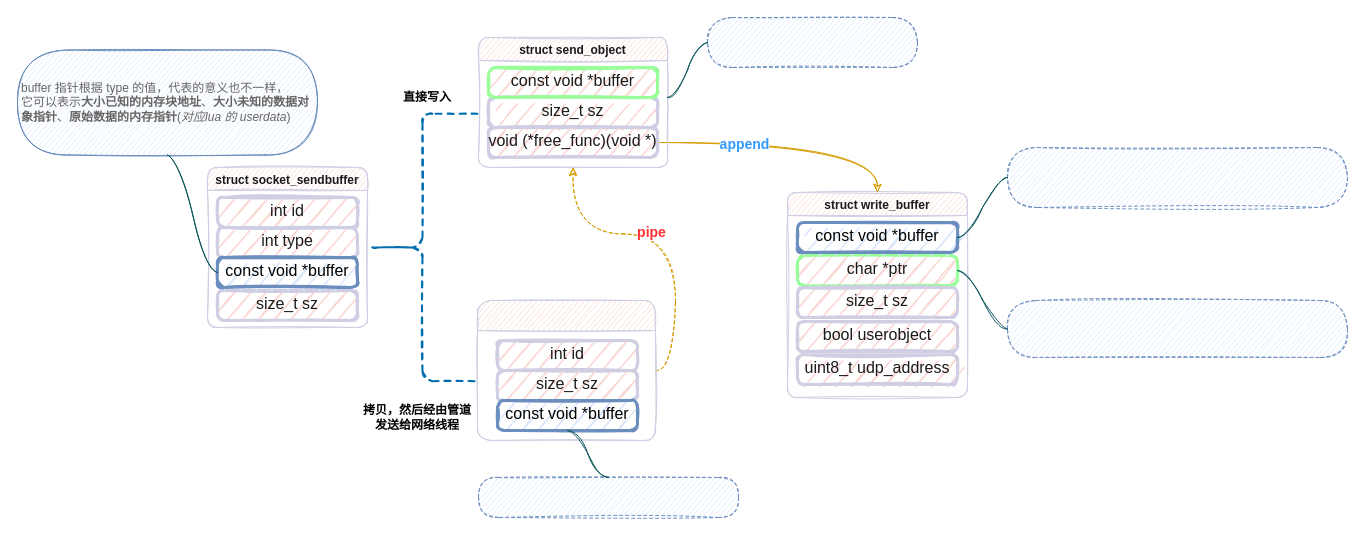
Some shapes in this 1365 by 535 pixel diagram are drawn without their labels. Each missing label, with the centre of its shape:
ptr 表示是真实需要 write 的数据指针: (1177,329)
rawpointer 类型的数据，需要做一次内存拷贝，因为在 lua 中，userdata 可能会被 gc 回收掉: (608,497)
struct request_send: (566,370)
该结构体能提取出 sendbuffer 中真正需要发送的数据指针: (812,42)
这里的 buffer 基本等同于 sendbuffer->buffer ， 若是 rawpointer 类型的指针，则是拷贝过的内存地址: (1177,177)
